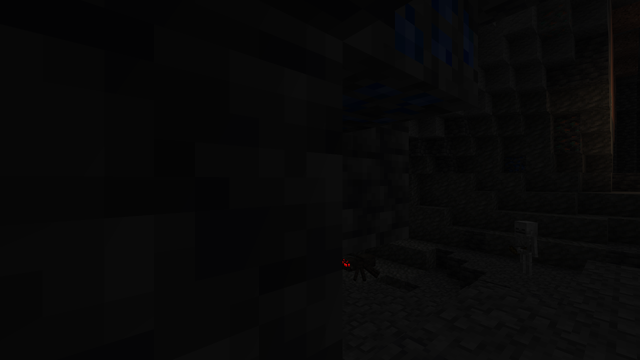araignees: (346, 251, 376, 281)
squelettes: (514, 220, 537, 277)
